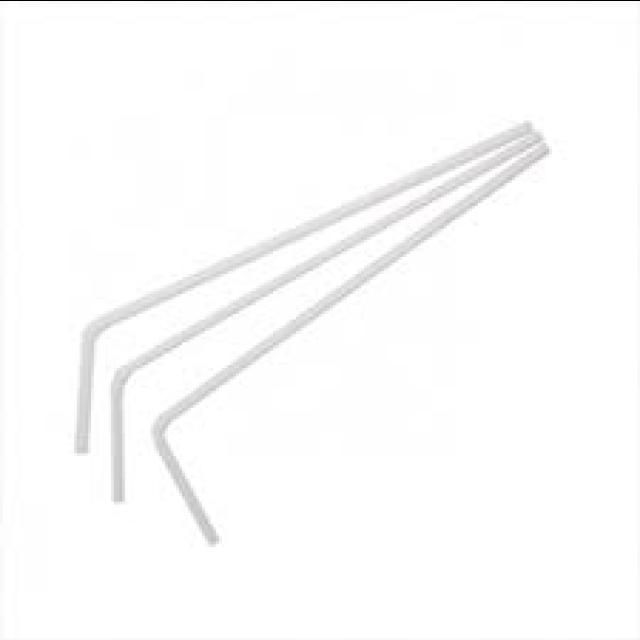straw: (156, 141, 547, 542), (116, 134, 532, 501), (75, 122, 531, 451)
